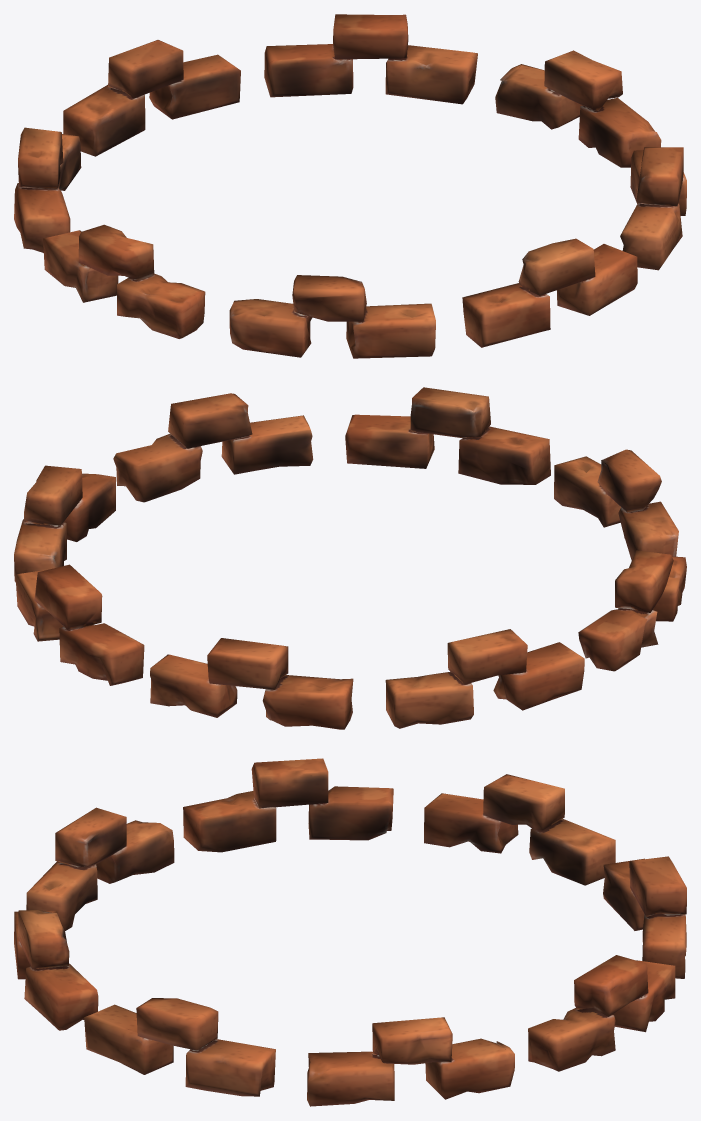
File: hearth_ring.glb
The picture shows the model from 3 angles, top to bottom: view 1: azimuth 30°, elevation 25°; view 2: azimuth 150°, elevation 25°; view 3: azimuth 270°, elevation 25°; orthographic projection.
Visible parts, largest first — view 1: hearth_ring; view 2: hearth_ring; view 3: hearth_ring.
Part boxes in pixels (bbox=[...]): hearth_ring: bbox=[14, 14, 686, 358]; hearth_ring: bbox=[14, 387, 686, 729]; hearth_ring: bbox=[14, 758, 686, 1106].
Size of the model in its own units: 2.41 by 0.2675 by 2.41.
1 material, 1 textured.
